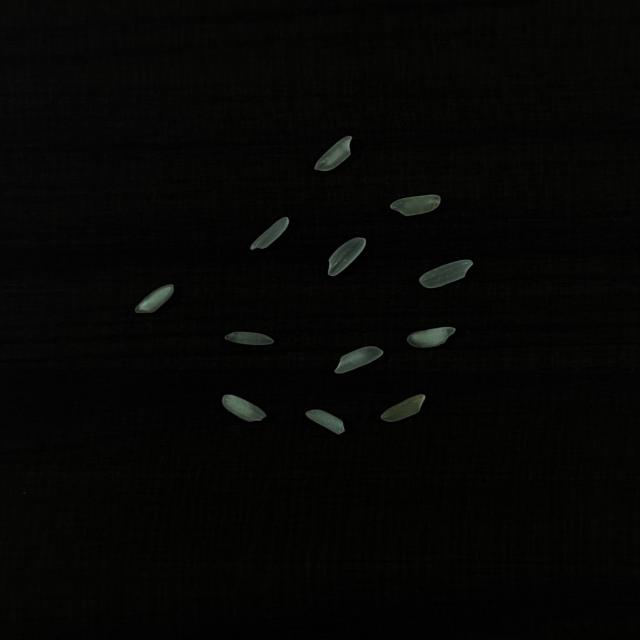Full: (419, 260, 473, 288), (328, 238, 366, 276), (334, 346, 384, 374), (314, 136, 353, 171), (380, 394, 426, 422), (250, 217, 289, 250), (222, 394, 267, 422), (390, 194, 441, 217), (135, 284, 174, 313), (407, 327, 456, 348), (306, 409, 345, 435), (224, 332, 274, 345)
